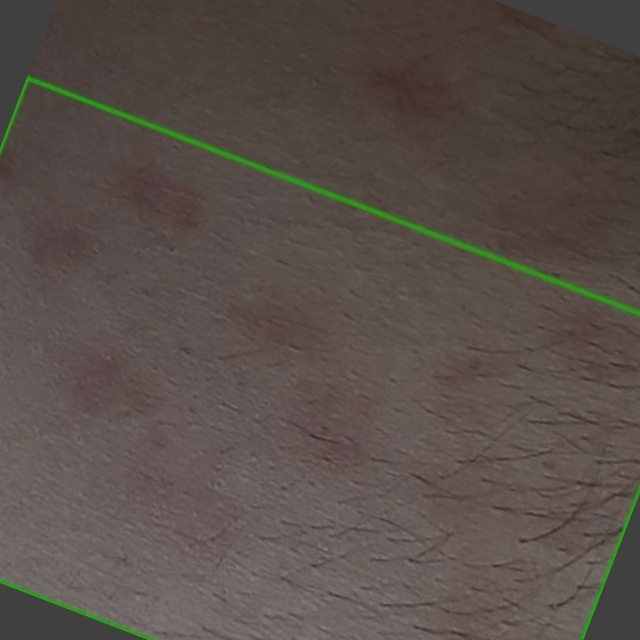Tinea Corporis: (0, 78, 639, 639)
